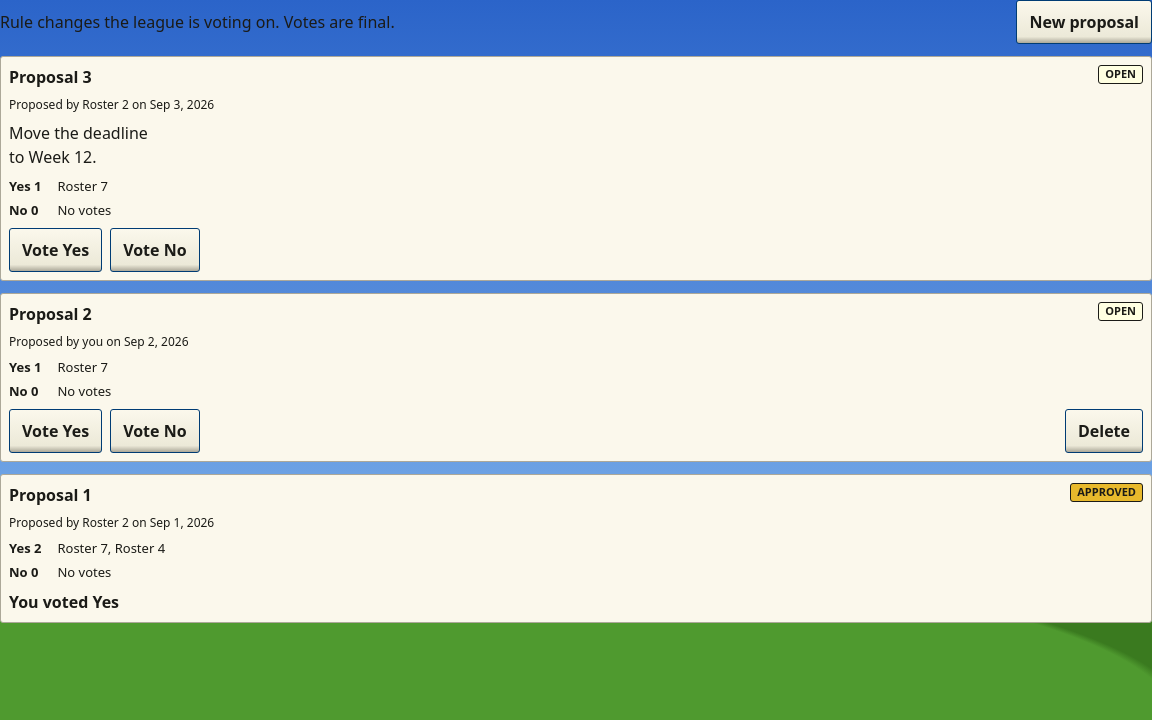
Test case: Proposals › casts a vote after the confirmation and adds the member to the voters
The width and height of the screenshot is (1152, 720).
Click the button "Vote No" below "Move the deadline to Week 12." at (155, 250), box [110,228,200,272]
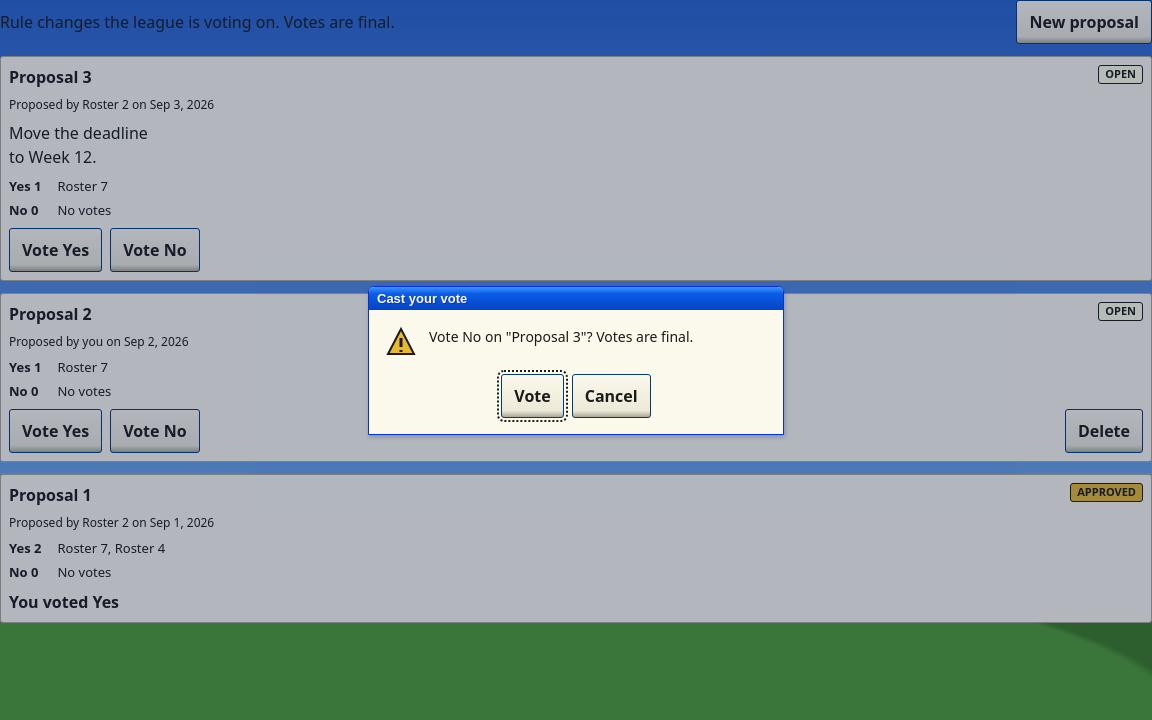
Click the button "Cancel" at (611, 396), box [572,374,651,418]
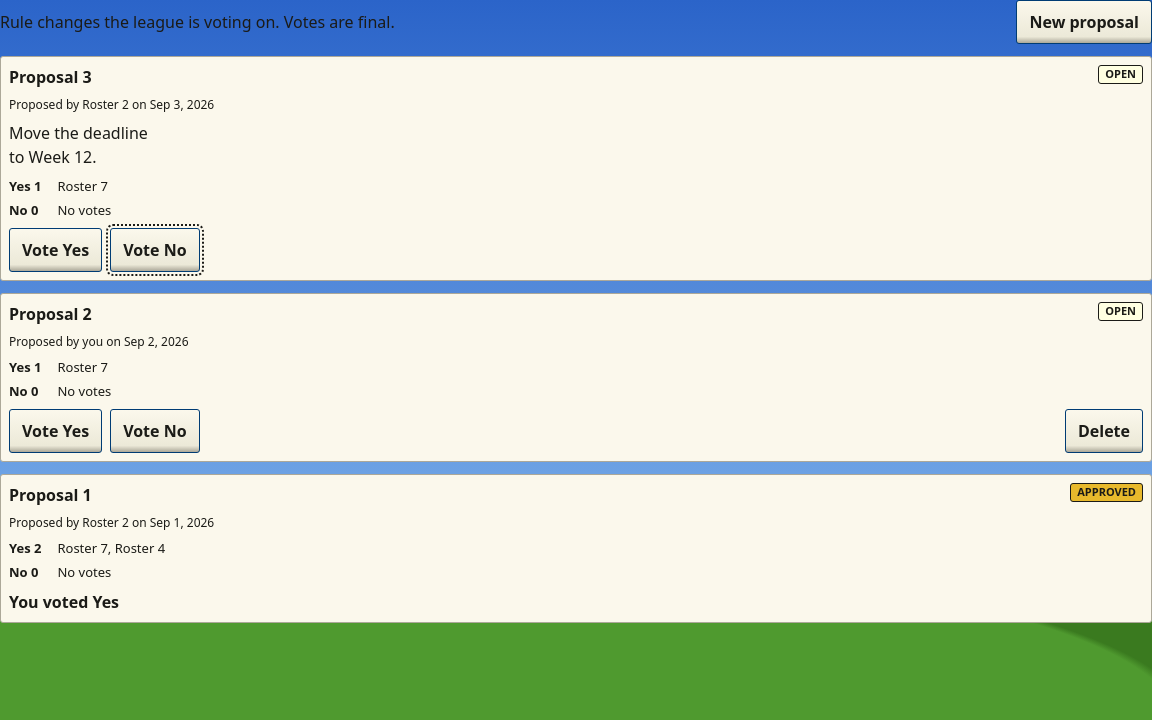
Result: the dialog is gone
Click the button "Vote No" below "Move the deadline to Week 12." at (155, 250), box [110,228,200,272]
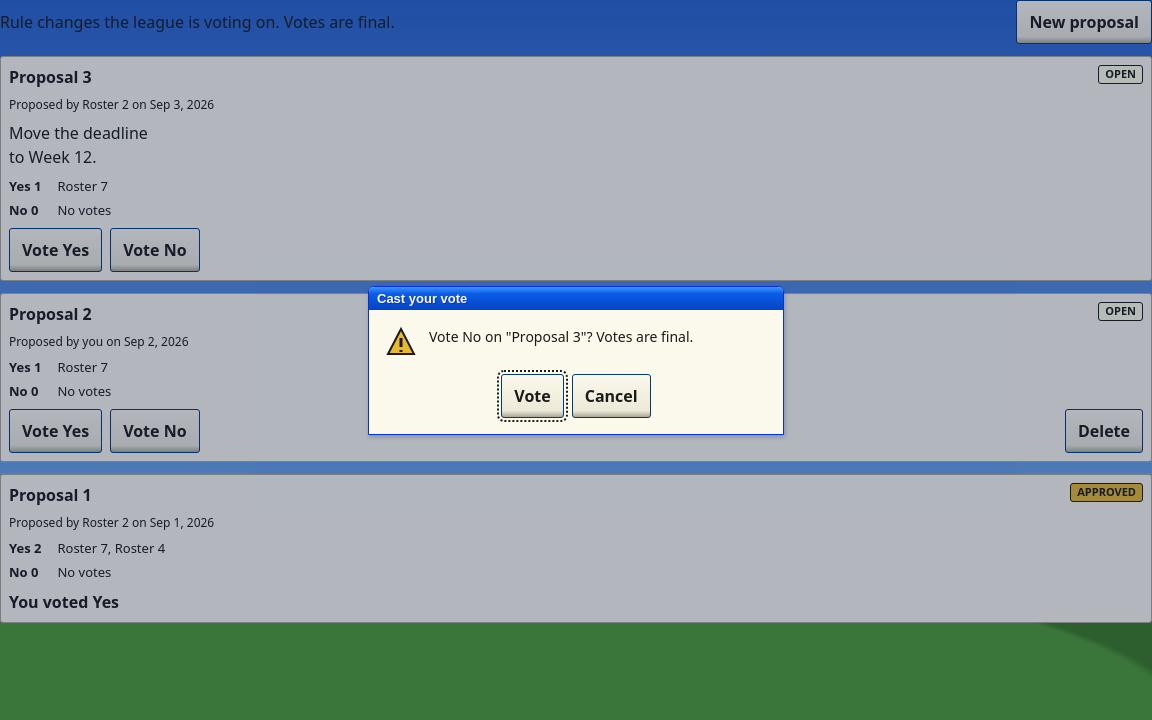
Click the button "Vote" at (532, 396), box [501,374,564,418]
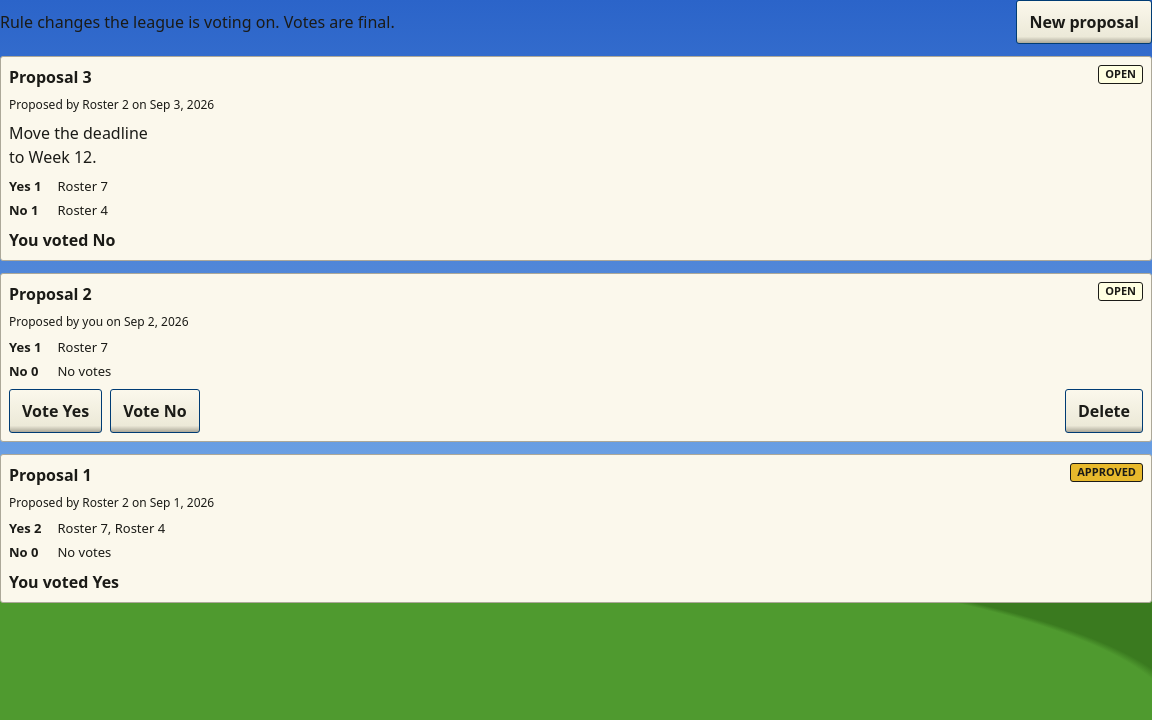
Result: the text "You voted No" is shown at [9,228,115,252]
Result: the text "Roster 4" is shown at [57,200,108,218]
